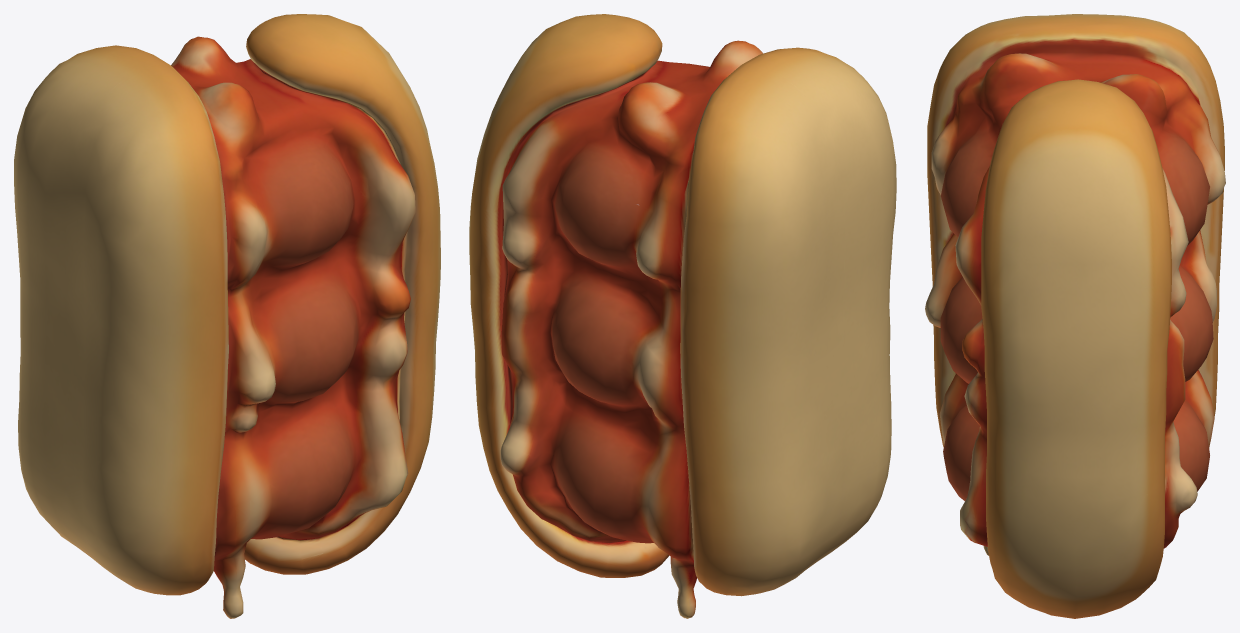
Rendered from meatball_sub.glb.
The picture shows the model from 3 angles, left to right: view 1: azimuth 30°, elevation 25°; view 2: azimuth 150°, elevation 25°; view 3: azimuth 270°, elevation 25°; orthographic projection. The views are drawn at different scales.
Visible parts, largest first — view 1: tripo_node_cc18e705-3d37-49ba-aa07-01f9df5ac06a; view 2: tripo_node_cc18e705-3d37-49ba-aa07-01f9df5ac06a; view 3: tripo_node_cc18e705-3d37-49ba-aa07-01f9df5ac06a.
Boxes of the visible parts, x1,y1,x2,y2 form: tripo_node_cc18e705-3d37-49ba-aa07-01f9df5ac06a: [14, 14, 440, 618]; tripo_node_cc18e705-3d37-49ba-aa07-01f9df5ac06a: [469, 14, 896, 618]; tripo_node_cc18e705-3d37-49ba-aa07-01f9df5ac06a: [925, 14, 1225, 618].
Bounding box in the file's own units: 0.6933 × 0.998 × 0.5215.
Materials: 1 (1 with a texture image).
